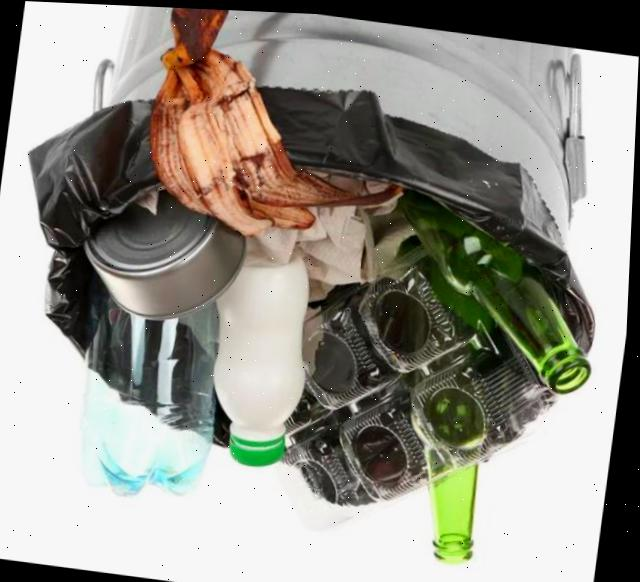Disposable: (286, 186, 593, 557)
Garbage: (30, 84, 590, 524), (150, 6, 403, 232), (217, 253, 311, 463), (433, 460, 481, 559)
Glass_bottle: (403, 187, 592, 387), (433, 460, 481, 559)
Metal: (85, 188, 247, 317)
Plastic_bottle: (84, 291, 221, 493), (84, 293, 221, 493), (217, 252, 311, 463), (362, 263, 476, 367)
contaminated_waste: (404, 187, 593, 387), (217, 252, 311, 463)
